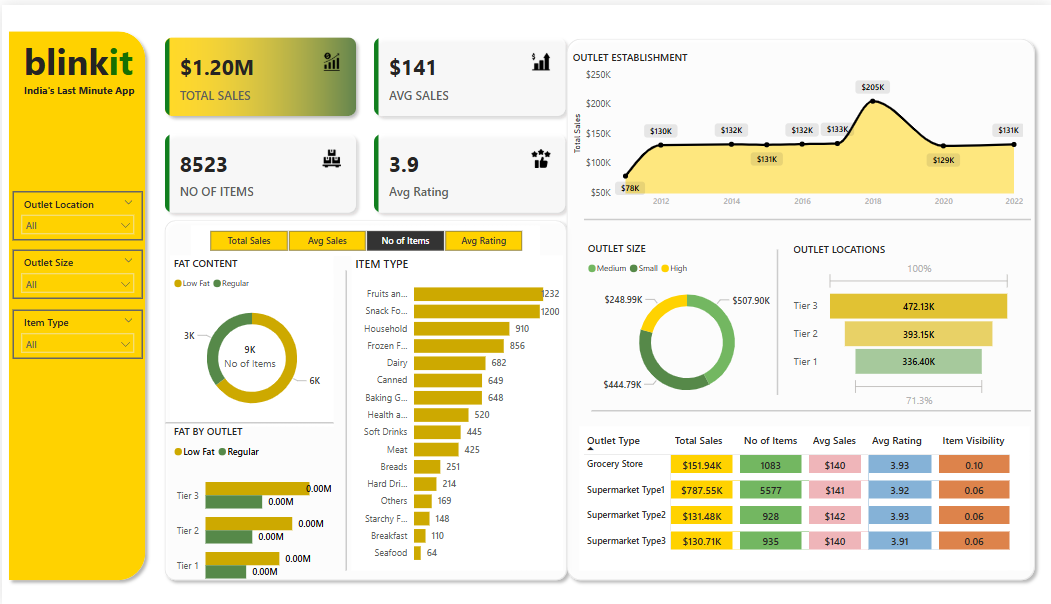

The dashboard page shown, as its layout file describes it:
{"tool":"powerbi","page":{"name":"Page 1","canvas":[1400,800],"ordinal":0},"visuals":[{"type":"shape","box":[0,25,200,750],"z":0},{"type":"textbox","box":[23.1,36.5,176.9,76.9],"z":1000},{"type":"textbox","box":[23.1,98.5,176.9,30.8],"z":2000},{"type":"cardVisual","fields":{"Data":["BlinkIT Grocery Data.Total Sales","BlinkIT Grocery Data.Avg Sales","BlinkIT Grocery Data.No of Items","BlinkIT Grocery Data.Avg Rating"]},"box":[200,25,569.2,269.2],"z":3000},{"type":"shape","box":[208,278,554,498],"z":4000},{"type":"donutChart","title":"FAT CONTENT","fields":{"Y":["BlinkIT Grocery Data.No of Items"],"Category":["BlinkIT Grocery Data.Item Fat Content"]},"box":[224,334,218,228],"z":5000},{"type":"slicer","fields":{"Values":["Metrics.Metrics"]},"box":[251.9,294.2,465.4,40.4],"z":6000},{"type":"cardVisual","fields":{"Data":["BlinkIT Grocery Data.No of Items"]},"box":[274.6,433.9,113.6,66.1],"z":7000},{"type":"clusteredBarChart","title":"FAT BY OUTLET","fields":{"Y":["BlinkIT Grocery Data.No of Items"],"Category":["BlinkIT Grocery Data.Outlet Location Type"],"Series":["BlinkIT Grocery Data.Item Fat Content"]},"box":[224,558,220,232],"z":8000},{"type":"shape","box":[452,354,14,400],"z":9000},{"type":"shape","box":[218,552,224,10],"z":10000},{"type":"barChart","title":"ITEM TYPE","fields":{"Y":["BlinkIT Grocery Data.No of Items"],"Category":["BlinkIT Grocery Data.Item Type"]},"box":[466,334,282,420],"z":11000},{"type":"shape","box":[744,36,642,740],"z":12000},{"type":"lineChart","title":"OUTLET ESTABLISHMENT","fields":{"Y":["BlinkIT Grocery Data.Total Sales"],"Category":["BlinkIT Grocery Data.Outlet Establishment Year"]},"box":[756,60,610,218],"z":13000},{"type":"shape","box":[776,276,596,20],"z":14000},{"type":"donutChart","title":"OUTLET SIZE","fields":{"Y":["BlinkIT Grocery Data.Total Sales"],"Category":["BlinkIT Grocery Data.Outlet Size"]},"box":[776,314,274,226],"z":15000},{"type":"shape","box":[1022,326,24,194],"z":16000},{"type":"funnel","title":"OUTLET LOCATIONS","fields":{"Category":["BlinkIT Grocery Data.Outlet Location Type"],"Y":["Sum(BlinkIT Grocery Data.Sales)"]},"box":[1050,316,300,226],"z":17000},{"type":"shape","box":[786,530,586,22],"z":18000},{"type":"pivotTable","fields":{"Rows":["BlinkIT Grocery Data.Outlet Type"],"Values":["BlinkIT Grocery Data.Total Sales","BlinkIT Grocery Data.No of Items","BlinkIT Grocery Data.Avg Sales","BlinkIT Grocery Data.Avg Rating","Avg(BlinkIT Grocery Data.Item Visibility)"]},"box":[770,562,600,192],"z":19000},{"type":"slicer","fields":{"Values":["BlinkIT Grocery Data.Outlet Location Type"]},"box":[14,248,174,66],"z":20000},{"type":"slicer","fields":{"Values":["BlinkIT Grocery Data.Outlet Size"]},"box":[14,326,174,66],"z":21000},{"type":"slicer","title":"Item Type","fields":{"Values":["BlinkIT Grocery Data.Item Type"]},"box":[14,406,174,66],"z":22000}]}

Visuals, with their boxes in screenshot pixels (x1, y1, x2, y2), scaled from the page's 1400x800 canvas onto the 1051x604 screenshot:
shape: box=[0, 19, 150, 585]
textbox: box=[17, 28, 150, 86]
textbox: box=[17, 74, 150, 98]
cardVisual - BlinkIT Grocery Data.Total Sales x BlinkIT Grocery Data.Avg Sales: box=[150, 19, 577, 222]
shape: box=[156, 210, 572, 586]
"FAT CONTENT" donutChart: box=[168, 252, 332, 424]
slicer - Metrics.Metrics: box=[189, 222, 538, 253]
cardVisual - BlinkIT Grocery Data.No of Items: box=[206, 328, 291, 378]
"FAT BY OUTLET" clusteredBarChart: box=[168, 421, 333, 596]
shape: box=[339, 267, 350, 569]
shape: box=[164, 417, 332, 424]
"ITEM TYPE" barChart: box=[350, 252, 562, 569]
shape: box=[559, 27, 1040, 586]
"OUTLET ESTABLISHMENT" lineChart: box=[568, 45, 1025, 210]
shape: box=[583, 208, 1030, 223]
"OUTLET SIZE" donutChart: box=[583, 237, 788, 408]
shape: box=[767, 246, 785, 393]
"OUTLET LOCATIONS" funnel: box=[788, 239, 1013, 409]
shape: box=[590, 400, 1030, 417]
pivotTable - BlinkIT Grocery Data.Outlet Type x BlinkIT Grocery Data.Total Sales: box=[578, 424, 1028, 569]
slicer - BlinkIT Grocery Data.Outlet Location Type: box=[11, 187, 141, 237]
slicer - BlinkIT Grocery Data.Outlet Size: box=[11, 246, 141, 296]
"Item Type" slicer: box=[11, 307, 141, 356]
